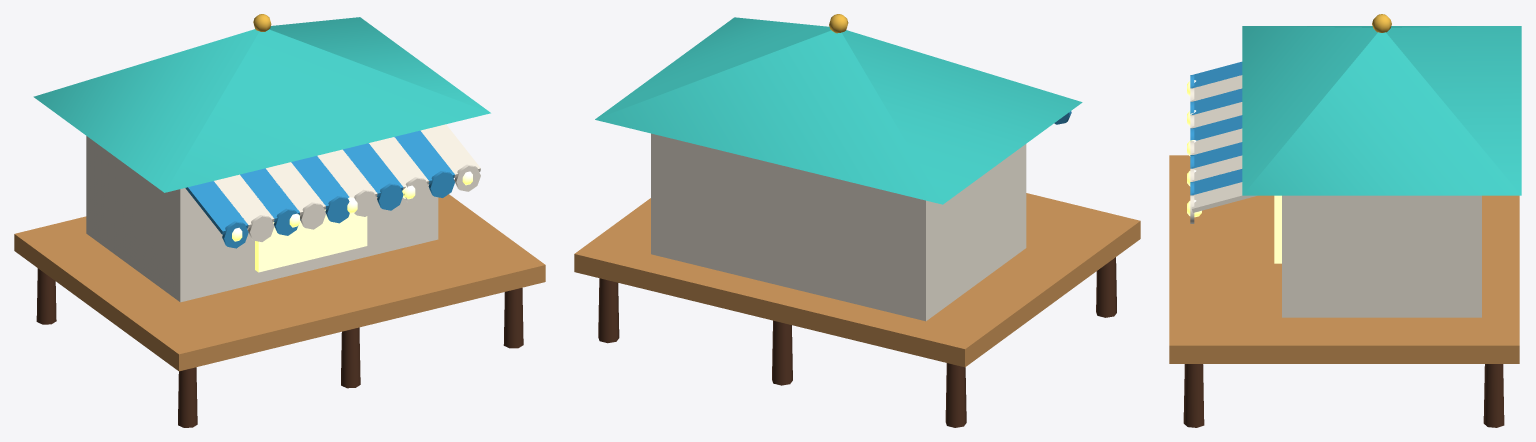
Rendered from beach-club.glb.
3 views of the same model, side by side, from view 1: azimuth 30°, elevation 25°; view 2: azimuth 150°, elevation 25°; view 3: azimuth 270°, elevation 25° (orthographic). The views are drawn at different scales.
Visible parts, largest first — view 1: Mesh_turquoise, Mesh_lightWood, Mesh_warmWhite, Mesh_skyBlue, Mesh_glowWarm, Mesh_darkWood; view 2: Mesh_turquoise, Mesh_warmWhite, Mesh_lightWood, Mesh_darkWood; view 3: Mesh_turquoise, Mesh_lightWood, Mesh_warmWhite, Mesh_skyBlue, Mesh_darkWood, Mesh_glowWarm.
Boxes of the visible parts, x1,y1,x2,y2 form: Mesh_turquoise: (33, 17, 490, 192); Mesh_lightWood: (14, 194, 545, 371); Mesh_warmWhite: (86, 124, 480, 302); Mesh_skyBlue: (185, 130, 454, 248); Mesh_glowWarm: (232, 171, 472, 272); Mesh_darkWood: (36, 268, 523, 427); Mesh_turquoise: (595, 17, 1082, 204); Mesh_warmWhite: (651, 133, 1026, 321); Mesh_lightWood: (574, 193, 1140, 367); Mesh_darkWood: (598, 257, 1116, 427); Mesh_turquoise: (1242, 26, 1521, 195); Mesh_lightWood: (1169, 155, 1519, 363); Mesh_warmWhite: (1190, 75, 1481, 317); Mesh_skyBlue: (1190, 61, 1242, 195); Mesh_darkWood: (1183, 364, 1504, 427); Mesh_glowWarm: (1187, 80, 1281, 263).
Size of the model in its own units: 5.4 by 4.29 by 4.22.
